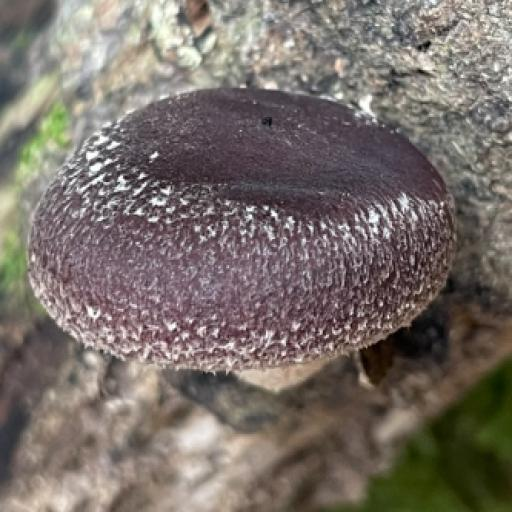Shiitake Mushroom: (25, 58, 456, 396)
